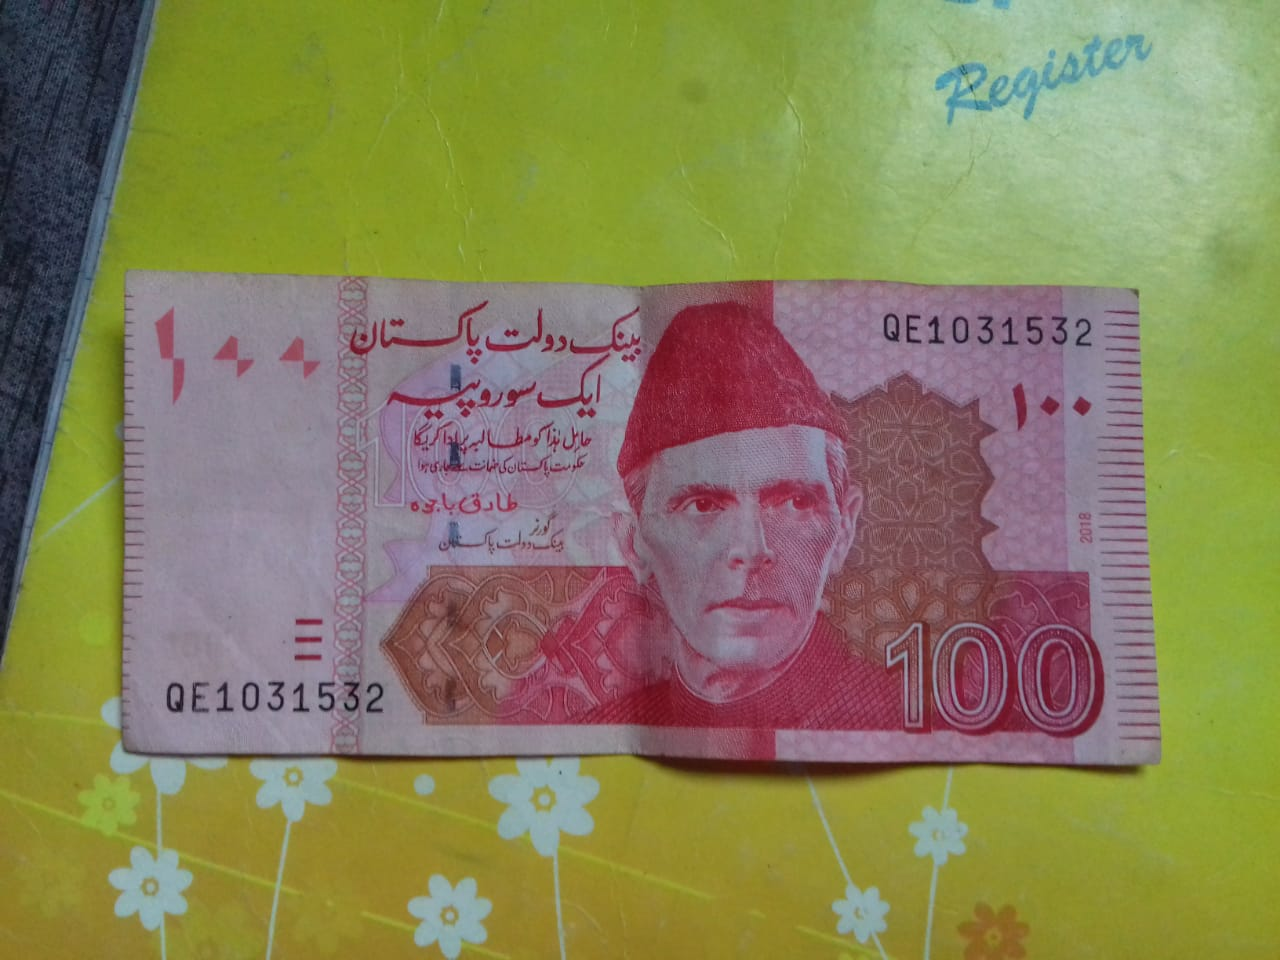100 rupee: (103, 257, 1179, 778)
